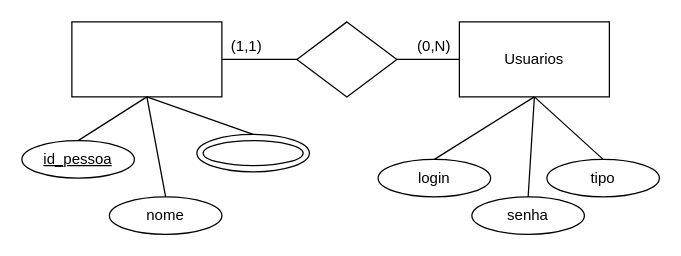
The diagram is 681 pixels wide and 256 high, and some of its shapes have lost their labels. Each missing label, with the centre of its shape:
"Pessoas" goes at (x=146, y=59).
"Possui" goes at (x=346, y=59).
"telefones" goes at (x=252, y=152).
